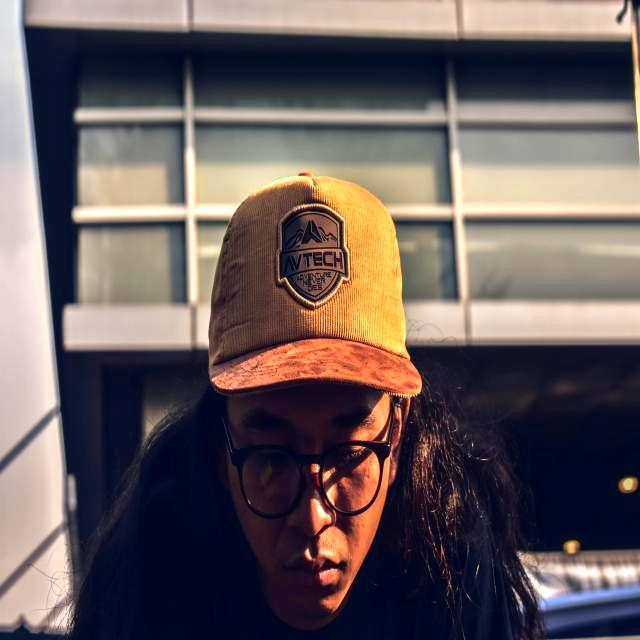no_hard_hat: (206, 174, 424, 393)
person: (69, 172, 543, 640)
